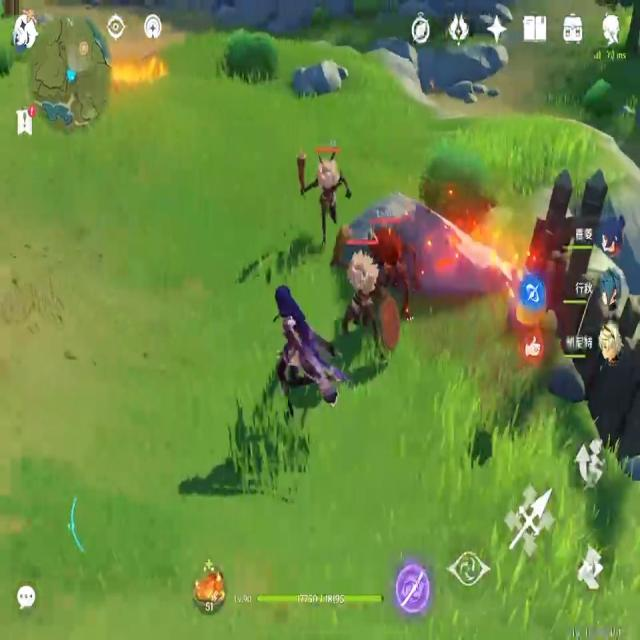genshin-hilichurls: (342, 240, 389, 361), (364, 206, 420, 298), (296, 136, 342, 230)
